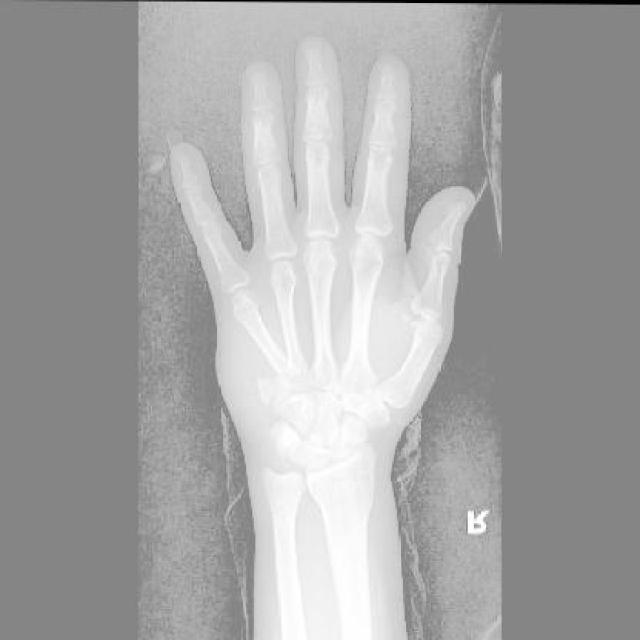Fracture: (254, 358, 305, 402)
